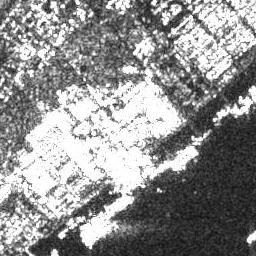ship: (83, 221, 118, 247), (172, 147, 199, 171), (101, 195, 136, 212), (213, 104, 231, 124), (246, 227, 256, 245)
